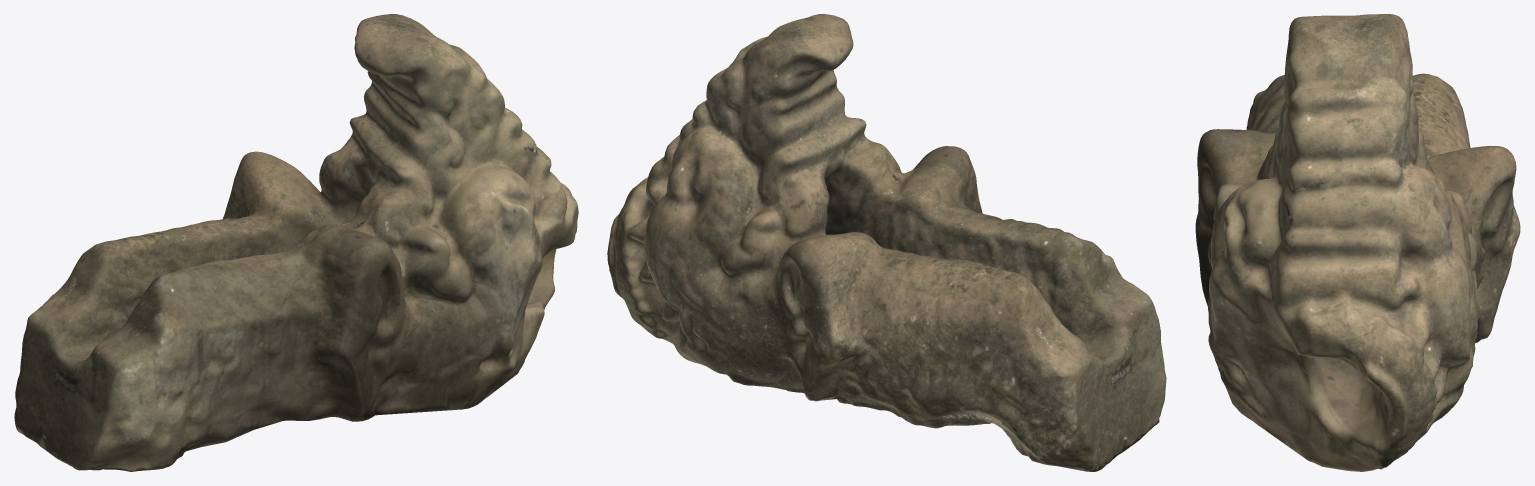
The model's file is 31_MysonSanctuaryD2_ThuyquaiMaKaRa_final.glb.
The picture shows the model from 3 angles, left to right: view 1: azimuth 30°, elevation 25°; view 2: azimuth 150°, elevation 25°; view 3: azimuth 270°, elevation 25°; orthographic projection. The views are drawn at different scales.
Bounding box in the file's own units: 0.5956 × 0.3794 × 0.2884.
1 material, 1 textured.
